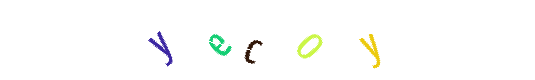0: (227, 0, 307, 80)
C: (211, 0, 291, 80)
E: (179, 0, 259, 80)
Y: (132, 0, 212, 80), (299, 0, 379, 80)
